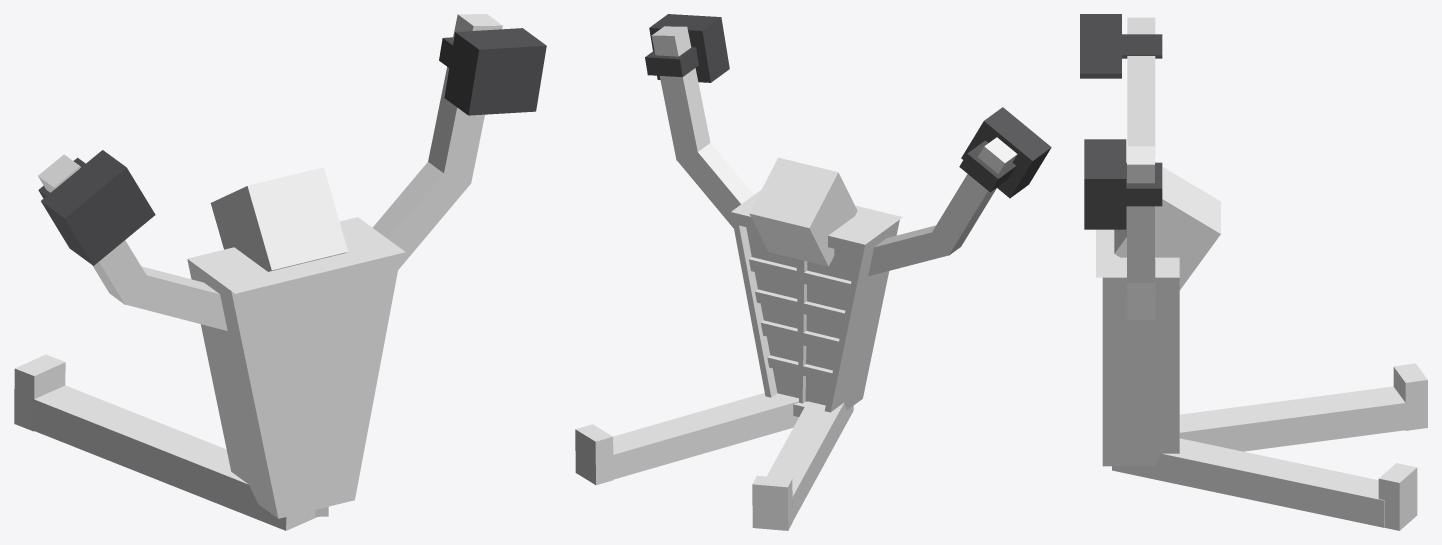
The model's file is Cadaver.fbx.
The picture shows the model from 3 angles, left to right: view 1: azimuth 30°, elevation 25°; view 2: azimuth 150°, elevation 25°; view 3: azimuth 270°, elevation 25°; orthographic projection. The views are drawn at different scales.
Visible parts, largest first — view 1: polySurface2; view 2: polySurface2; view 3: polySurface2.
Part boxes in pixels (<box>): polySurface2: <box>14,14,546,530</box>; polySurface2: <box>575,14,1051,530</box>; polySurface2: <box>1080,14,1427,530</box>.
Size of the model in its own units: 2.15 by 1.9 by 1.53.
